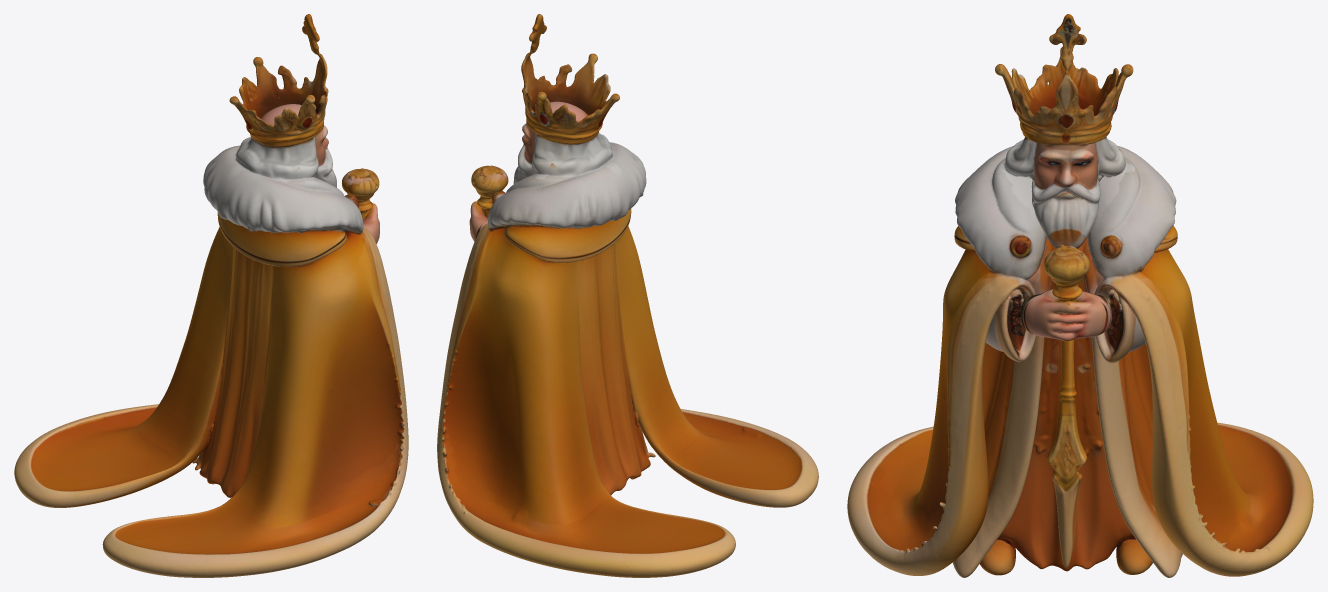
The picture shows the model from 3 angles, left to right: view 1: azimuth 30°, elevation 25°; view 2: azimuth 150°, elevation 25°; view 3: azimuth 270°, elevation 25°; orthographic projection. The views are drawn at different scales.
Visible parts, largest first — view 1: tripo_node_db1246c0-5563-4d3c-930f-752f662cf492; view 2: tripo_node_db1246c0-5563-4d3c-930f-752f662cf492; view 3: tripo_node_db1246c0-5563-4d3c-930f-752f662cf492.
Boxes of the visible parts, x1,y1,x2,y2 form: tripo_node_db1246c0-5563-4d3c-930f-752f662cf492: [14, 14, 408, 577]; tripo_node_db1246c0-5563-4d3c-930f-752f662cf492: [437, 14, 818, 577]; tripo_node_db1246c0-5563-4d3c-930f-752f662cf492: [847, 14, 1313, 577].
Bounding box in the file's own units: 0.6864 × 1 × 0.7468.
Materials: 1 (1 with a texture image).
